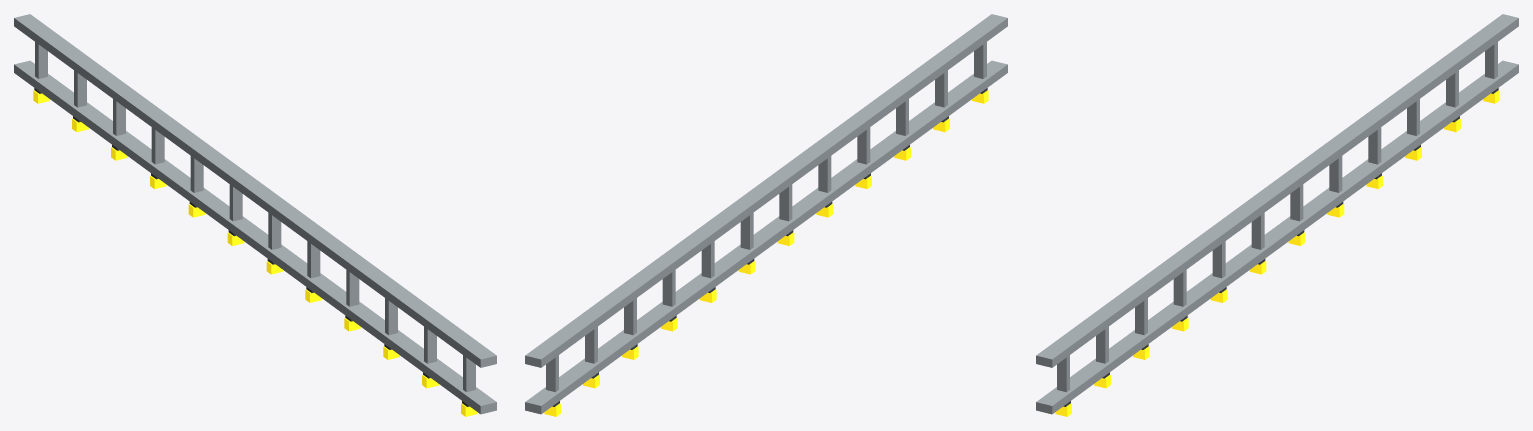
Rendered from Boom.glb.
3 renders of one model, left to right at view 1: azimuth 30°, elevation 25°; view 2: azimuth 150°, elevation 25°; view 3: azimuth 330°, elevation 25°, orthographic.
Visible parts, largest first — view 1: Upper rail mesh, Lower rail mesh, Upright 3, Upright 4, Upright 5, Upright 6, Upright 7, Upright 8; view 2: Upper rail mesh, Lower rail mesh, Upright 8, Upright 6, Upright 7, Upright 5, Upright 3, Upright 4; view 3: Upper rail mesh, Lower rail mesh, Upright 3, Upright 4, Upright 5, Upright 6, Upright 7, Upright 8.
Part boxes in pixels (x1=…): Upper rail mesh: x1=14, y1=14, x2=496, y2=367; Lower rail mesh: x1=14, y1=60, x2=496, y2=414; Upright 3: x1=151, y1=127, x2=164, y2=164; Upright 4: x1=190, y1=156, x2=203, y2=192; Upright 5: x1=229, y1=184, x2=242, y2=221; Upright 6: x1=268, y1=213, x2=281, y2=249; Upright 7: x1=307, y1=241, x2=320, y2=278; Upright 8: x1=346, y1=270, x2=359, y2=306; Upper rail mesh: x1=525, y1=14, x2=1007, y2=367; Lower rail mesh: x1=525, y1=60, x2=1007, y2=414; Upright 8: x1=857, y1=127, x2=870, y2=164; Upright 6: x1=779, y1=184, x2=792, y2=221; Upright 7: x1=818, y1=156, x2=831, y2=192; Upright 5: x1=740, y1=213, x2=753, y2=249; Upright 3: x1=662, y1=270, x2=675, y2=306; Upright 4: x1=701, y1=241, x2=714, y2=278; Upper rail mesh: x1=1036, y1=14, x2=1518, y2=367; Lower rail mesh: x1=1036, y1=60, x2=1518, y2=414; Upright 3: x1=1368, y1=127, x2=1381, y2=164; Upright 4: x1=1329, y1=156, x2=1342, y2=192; Upright 5: x1=1290, y1=184, x2=1303, y2=221; Upright 6: x1=1251, y1=213, x2=1264, y2=249; Upright 7: x1=1212, y1=241, x2=1225, y2=278; Upright 8: x1=1173, y1=270, x2=1186, y2=306.
Size of the model in its own units: 0.12 by 0.5 by 6.
